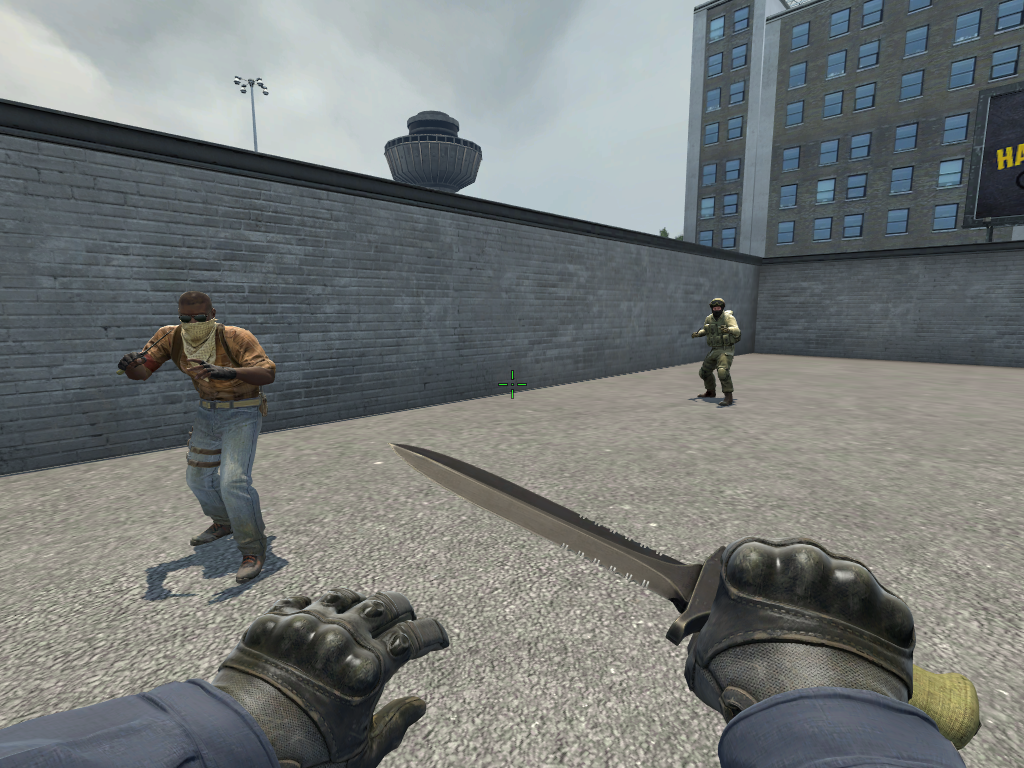ct head: (708, 297, 726, 316)
tr head: (175, 290, 216, 343)
